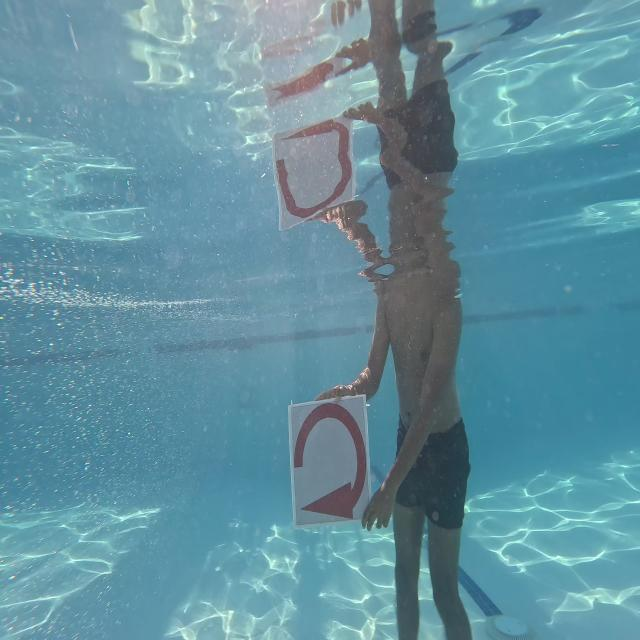red_side: (290, 399, 369, 523)
